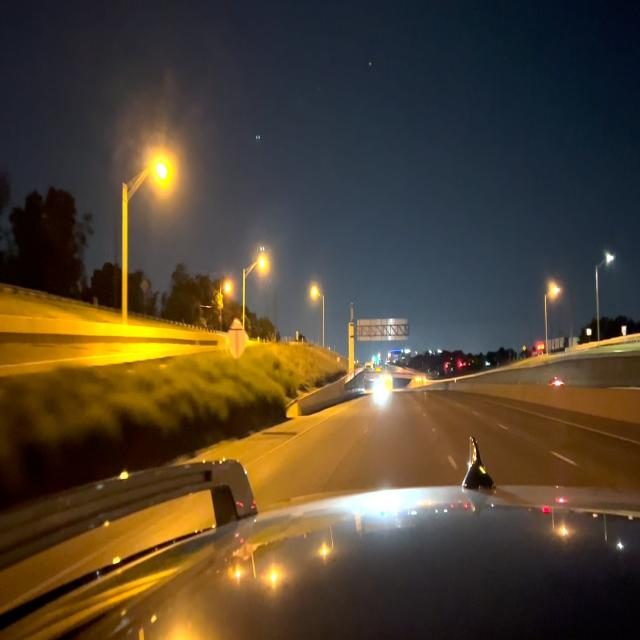back-of-sign: (359, 319, 408, 340), (226, 319, 249, 360)
